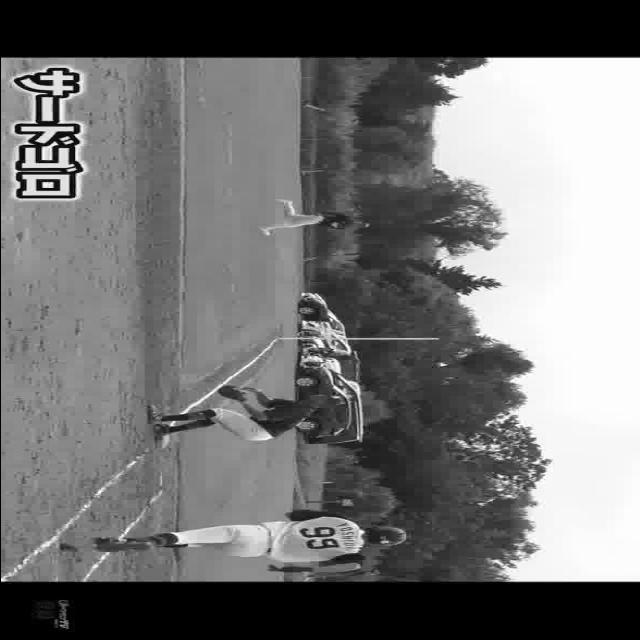base: (149, 418, 172, 456)
baseball_glove: (207, 386, 253, 404)
shoe: (94, 537, 156, 555), (142, 402, 163, 424), (150, 422, 173, 438)
